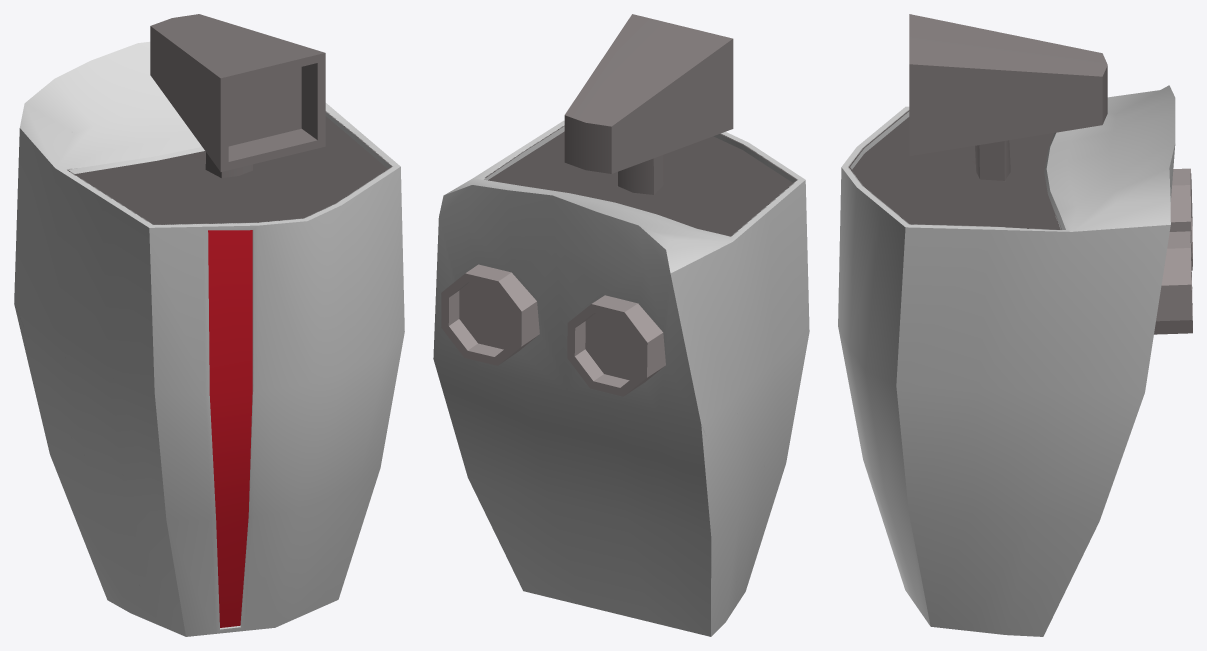
The model's file is Robot.fbx.
The picture shows the model from 3 angles, left to right: view 1: azimuth 30°, elevation 25°; view 2: azimuth 150°, elevation 25°; view 3: azimuth 270°, elevation 25°; orthographic projection. The views are drawn at different scales.
Visible parts, largest first — view 1: Robot; view 2: Robot; view 3: Robot.
Boxes of the visible parts, x1,y1,x2,y2 form: Robot: (14,14,404,636); Robot: (433,14,809,636); Robot: (838,14,1192,636).
Size of the model in its own units: 168 by 323 by 189.
